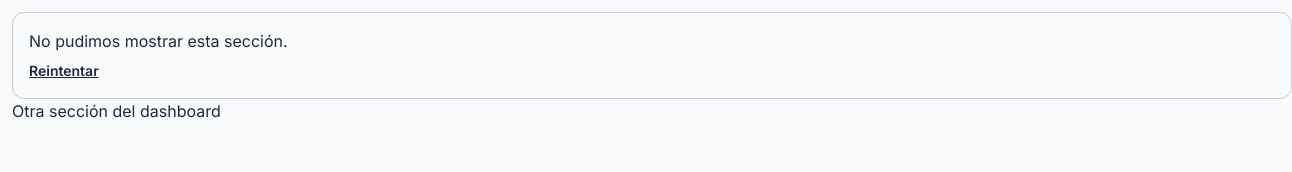
Scenario: mantiene las demás secciones visibles y permite recuperar la que falló
Check: the message shows "No pudimos mostrar esta sección", box x1=29 y1=31 x2=288 y2=51
Check: the text "Otra sección del dashboard" is shown, box x1=12 y1=101 x2=221 y2=121
Click the button "Reintentar" at [64, 71], box x1=29 y1=61 x2=99 y2=81
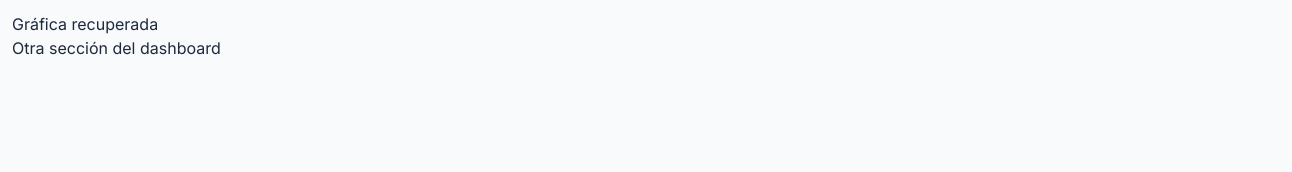
Check: the text "Gráfica recuperada" is shown, box x1=12 y1=14 x2=158 y2=34
Check: the message "No pudimos mostrar esta sección. Reintentar" is gone
